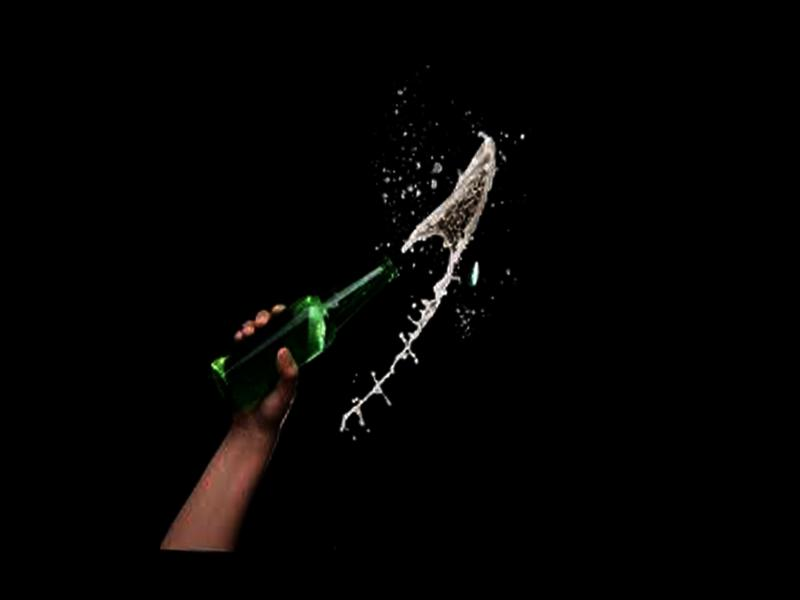Beer: (203, 243, 398, 423)
